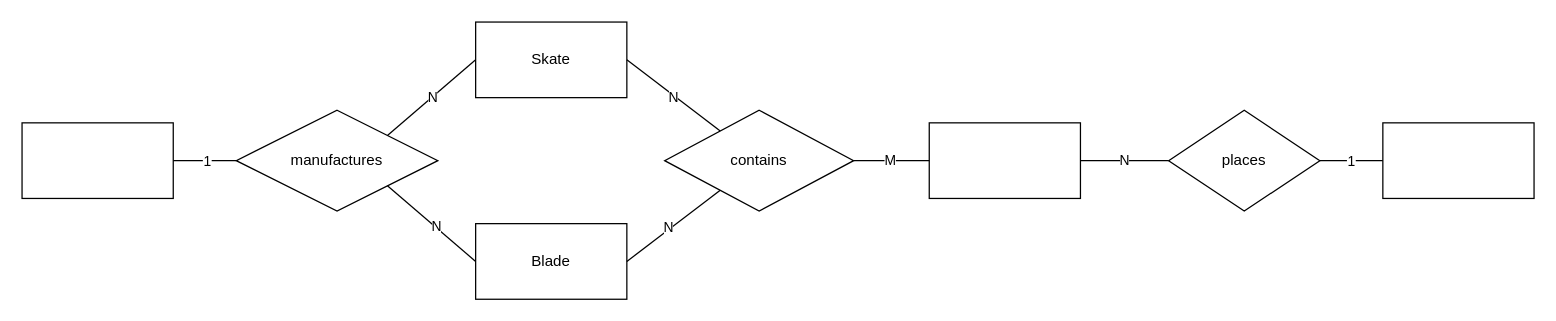
Image size: 1556x321. Some labels were removed from this diagram. Each missing label, with the centre of its shape:
Brand: point (97, 160)
CustomerOrder: point (1004, 160)
User: point (1458, 160)
